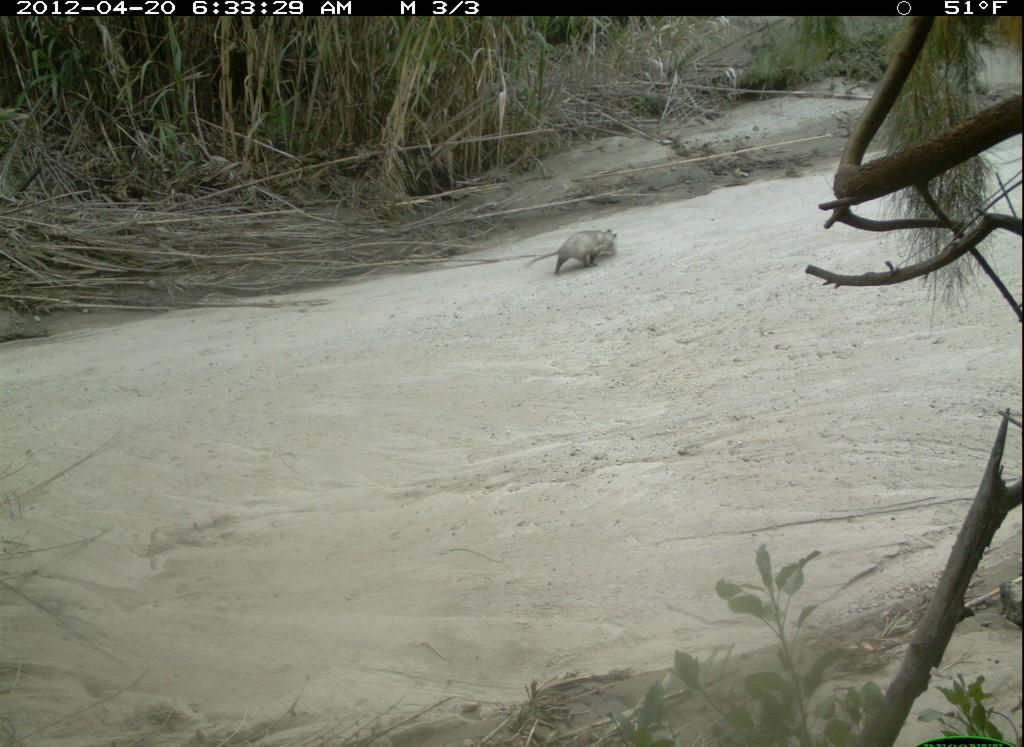opossum: (521, 219, 652, 300)
